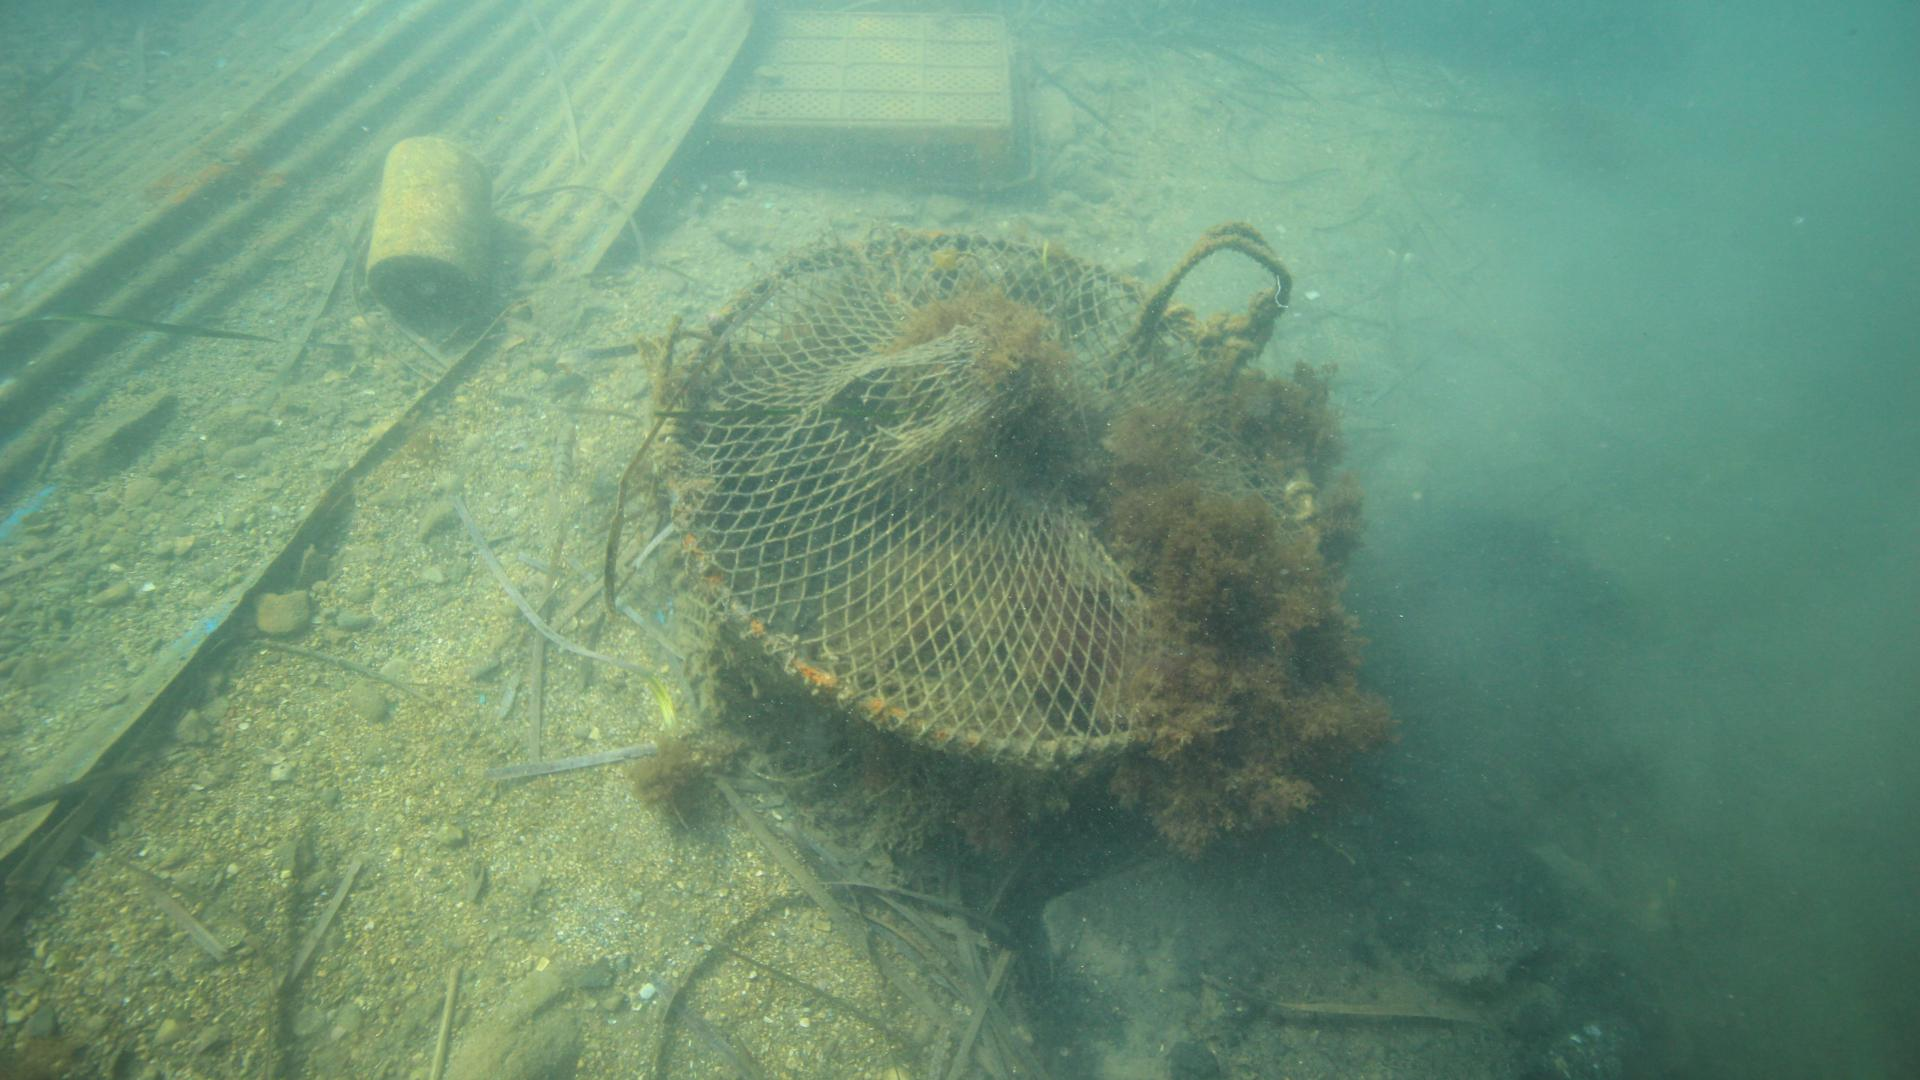bundle of ropes: (1124, 219, 1291, 363)
circular fish trap: (661, 229, 1320, 837)
